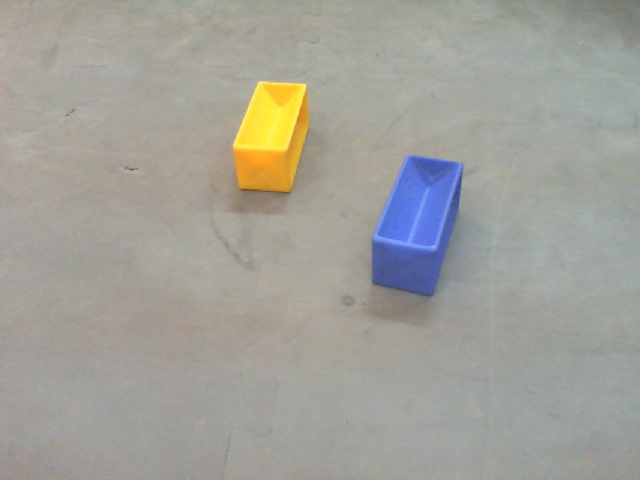BlueSample: (367, 153, 467, 300)
YellowSample: (231, 79, 311, 196)
